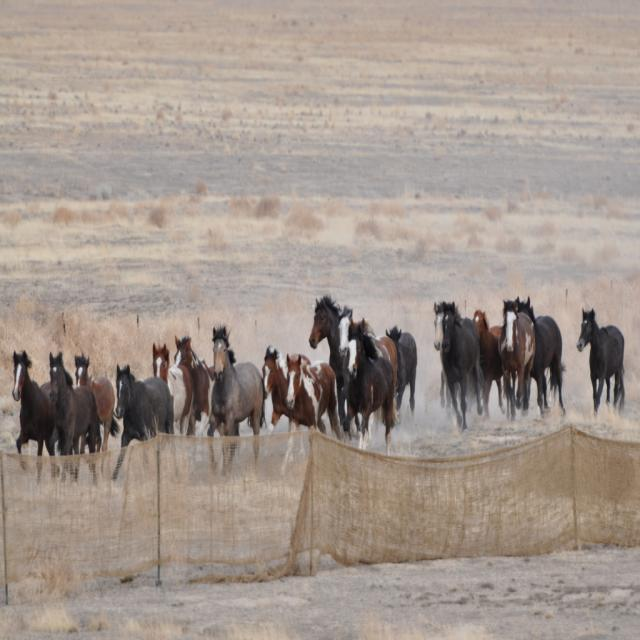Horse: (12, 290, 626, 487)
